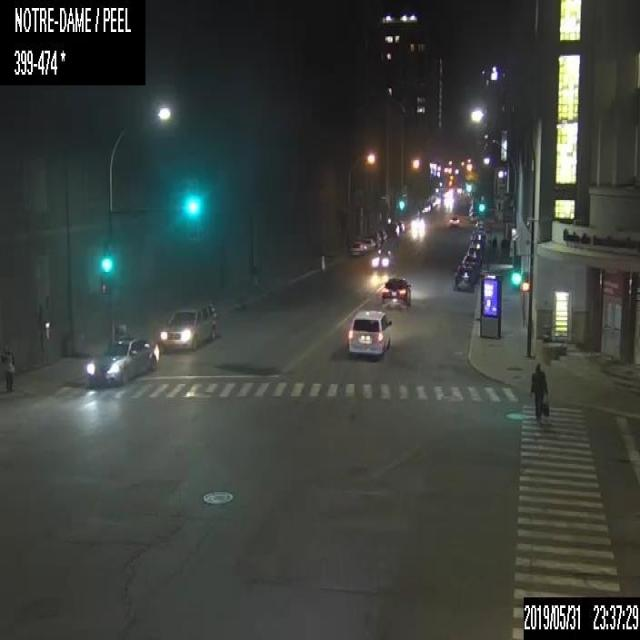construction: (320, 254, 325, 270)
pedestrian: (529, 363, 547, 421), (0, 340, 14, 391), (492, 234, 497, 254)
vehicle: (86, 335, 158, 385), (159, 302, 217, 350), (346, 311, 392, 356), (380, 275, 412, 311), (454, 264, 474, 293), (371, 250, 395, 268), (462, 252, 481, 274), (467, 244, 482, 264), (349, 239, 366, 256), (389, 217, 406, 232), (469, 237, 483, 254), (361, 236, 375, 252), (411, 215, 424, 229), (368, 232, 380, 246), (472, 229, 485, 240), (375, 228, 386, 240), (448, 213, 458, 226), (474, 218, 484, 229), (476, 225, 484, 233)
